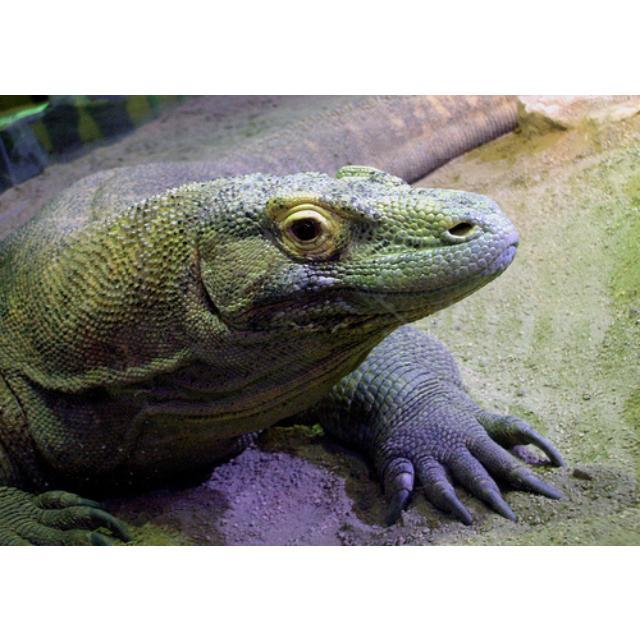KomodoDragon: (1, 94, 570, 540)
